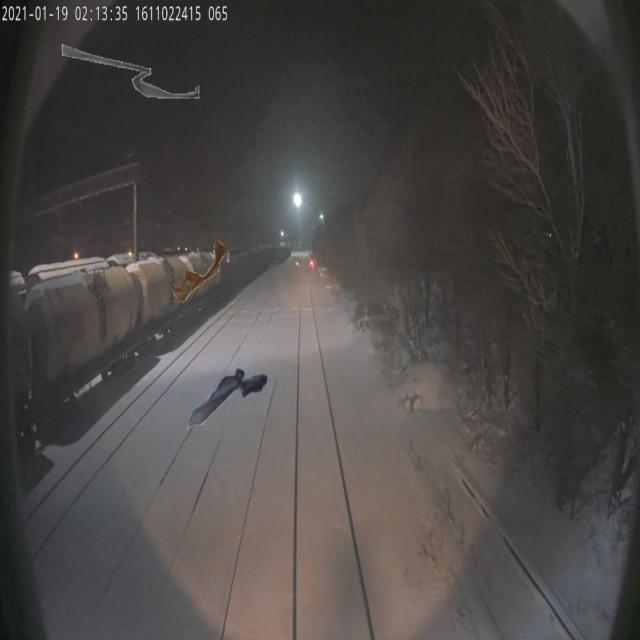floating object: (60, 40, 200, 104), (187, 366, 268, 430), (171, 239, 229, 303)
